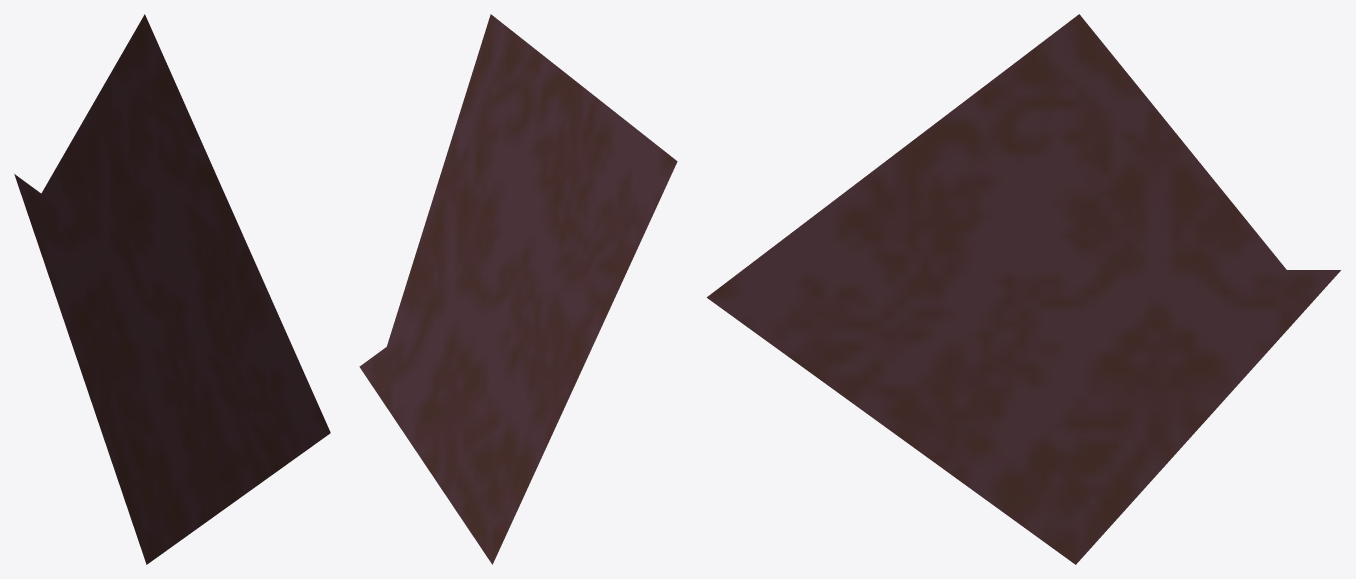
Rendered from Past_BrokenWall2.fbx.
3 views of the same model, side by side, from view 1: azimuth 30°, elevation 25°; view 2: azimuth 150°, elevation 25°; view 3: azimuth 270°, elevation 25° (orthographic).
Parts seen in each view (by area): view 1: polySurface397; view 2: polySurface397; view 3: polySurface397.
Part boxes in pixels (box(x1,y1,x2,y2)): polySurface397: box(14, 14, 330, 564); polySurface397: box(359, 14, 677, 564); polySurface397: box(707, 14, 1340, 564).
Size of the model in its own units: 6.1e-05 by 122 by 127.
Materials: 1 (1 with a texture image).
